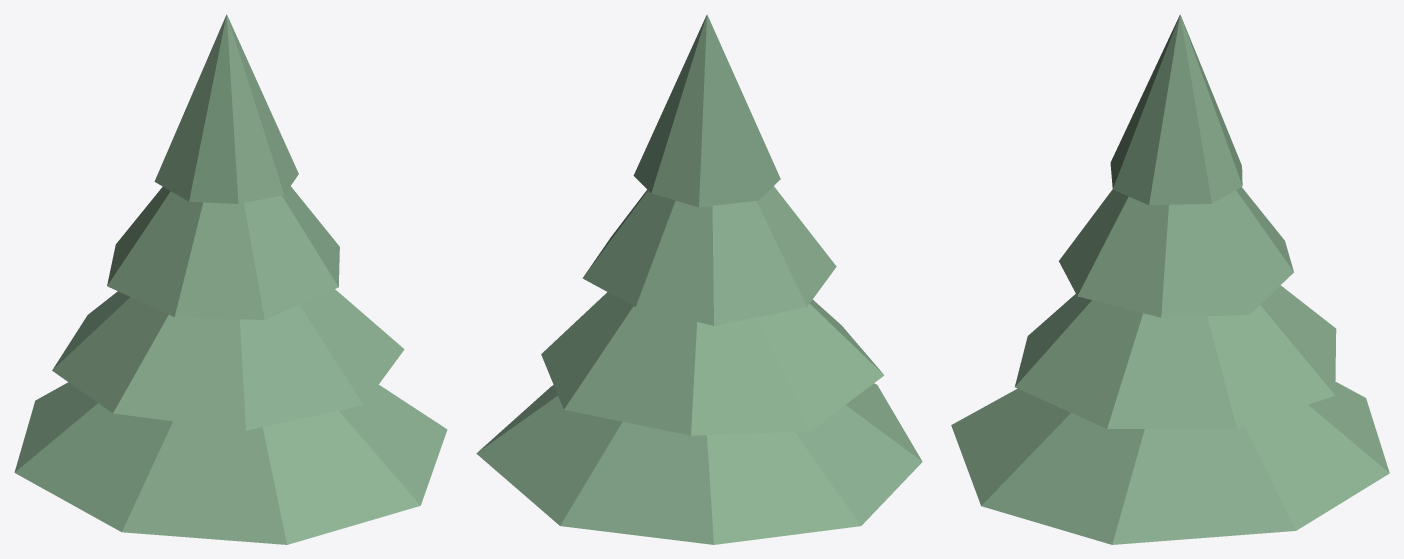
The model's file is fir-b.glb.
3 views of the same model, side by side, from view 1: azimuth 30°, elevation 25°; view 2: azimuth 150°, elevation 25°; view 3: azimuth 270°, elevation 25° (orthographic).
Parts seen in each view (by area): view 1: fir-b; view 2: fir-b; view 3: fir-b.
Part boxes in pixels (bbox=[...]): fir-b: bbox=[14, 14, 447, 544]; fir-b: bbox=[476, 14, 922, 544]; fir-b: bbox=[951, 14, 1389, 544].
Size of the model in its own units: 4.94 by 6.18 by 5.05.
